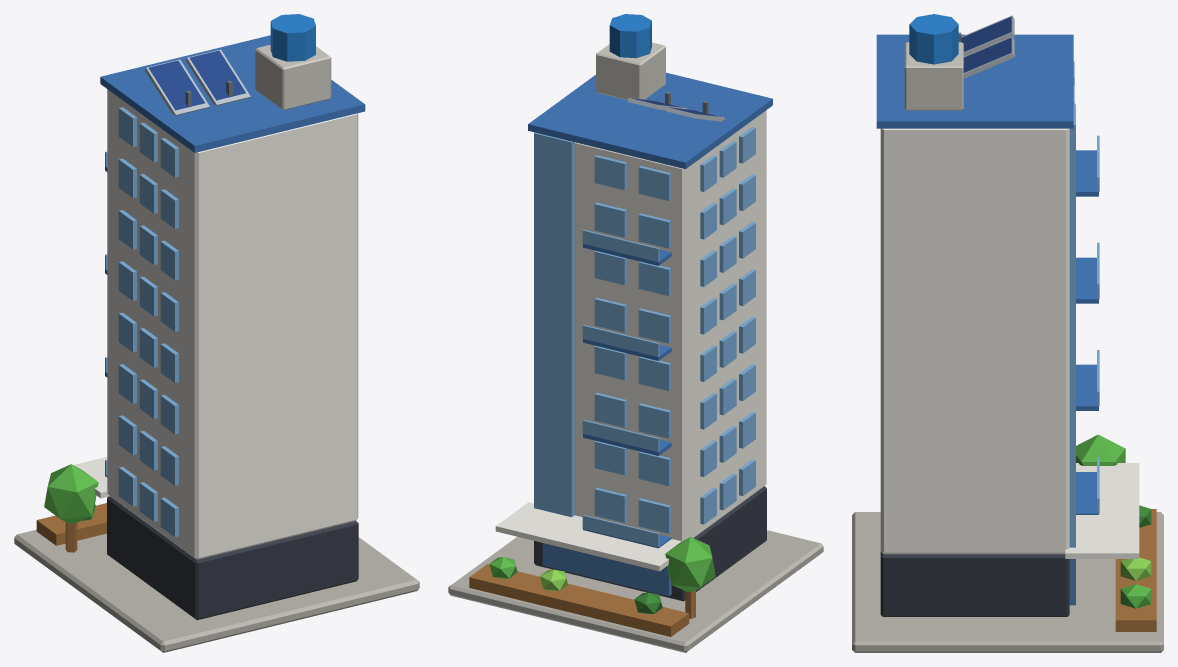
File: residencial-predio_alto.glb
3 views of the same model, side by side, from view 1: azimuth 30°, elevation 25°; view 2: azimuth 150°, elevation 25°; view 3: azimuth 270°, elevation 25° (orthographic). The views are drawn at different scales.
Visible parts, largest first — view 1: corpo; view 2: corpo; view 3: corpo.
Part boxes in pixels (bbox=[...]): corpo: bbox=[14, 14, 419, 652]; corpo: bbox=[448, 14, 823, 652]; corpo: bbox=[852, 14, 1163, 652].
Size of the model in its own units: 1.9 by 3.93 by 1.9.
